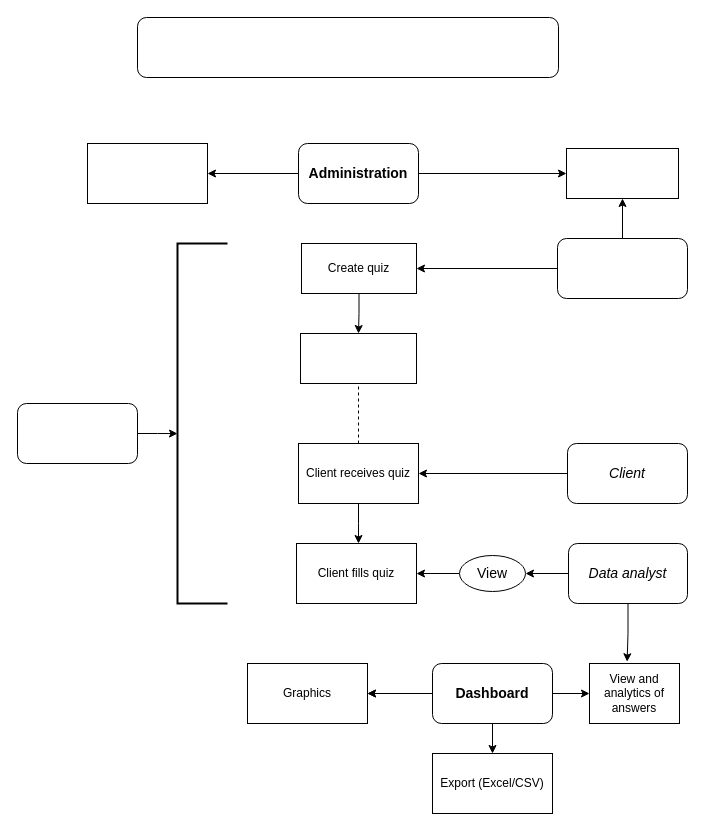
The diagram is 705 pixels wide and 831 high, and some of its shapes have lost their labels. Each missing label, with the centre of its shape:
"Add client list" belongs at pixel 622 173.
"Administrator" belongs at pixel 622 268.
"Choose client base" belongs at pixel 358 358.
"Login and authentiocation" belongs at pixel 147 173.
"Portal for gathering, analytics and feedback" belongs at pixel 347 47.
"Quiz" belongs at pixel 77 433.
